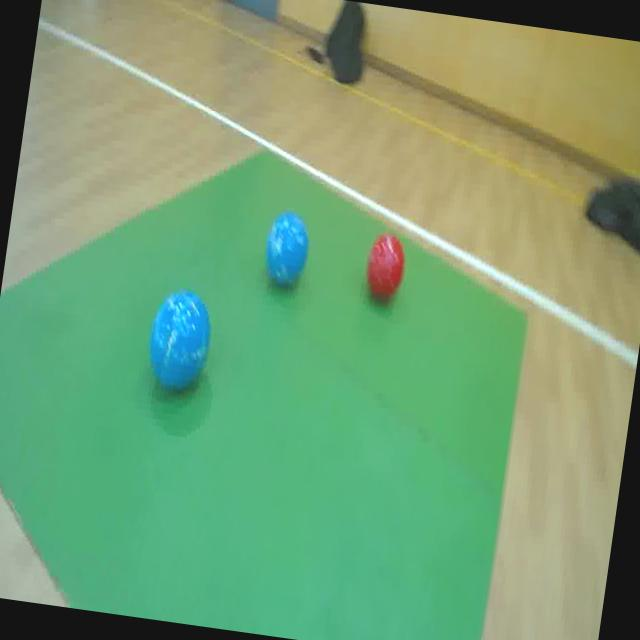blue_ball: (141, 282, 218, 402), (259, 212, 315, 292)
red_ball: (362, 230, 410, 302)
